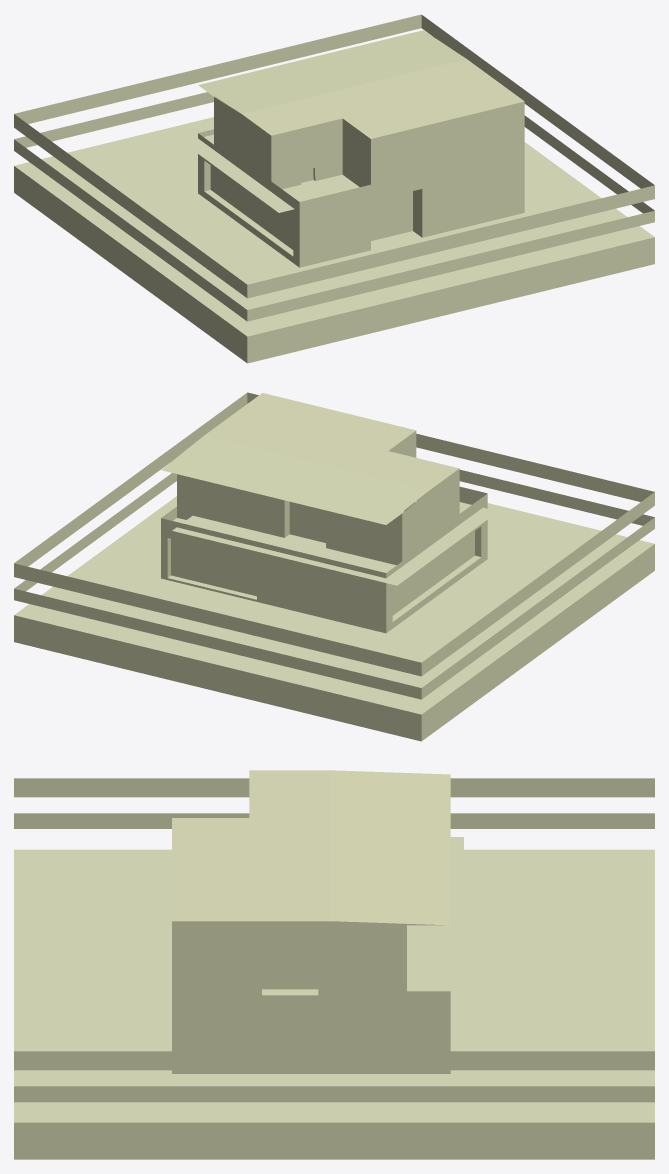
The model's file is House_project4.glb.
3 renders of one model, top to bottom at view 1: azimuth 30°, elevation 25°; view 2: azimuth 150°, elevation 25°; view 3: azimuth 270°, elevation 25°, orthographic. The views are drawn at different scales.
Parts seen in each view (by area): view 1: house, fence.001, Cube; view 2: house, fence.001, Cube; view 3: Cube, house, fence.001.
Part boxes in pixels (x1=…): house: x1=198, y1=30, x2=524, y2=267; fence.001: x1=14, y1=14, x2=654, y2=363; Cube: x1=14, y1=117, x2=654, y2=336; house: x1=161, y1=393, x2=487, y2=633; fence.001: x1=14, y1=392, x2=654, y2=741; Cube: x1=14, y1=496, x2=654, y2=714; Cube: x1=14, y1=837, x2=654, y2=1122; house: x1=172, y1=770, x2=450, y2=1073; fence.001: x1=14, y1=778, x2=654, y2=1159.
Size of the model in its own units: 7.77 by 2.52 by 7.71.
